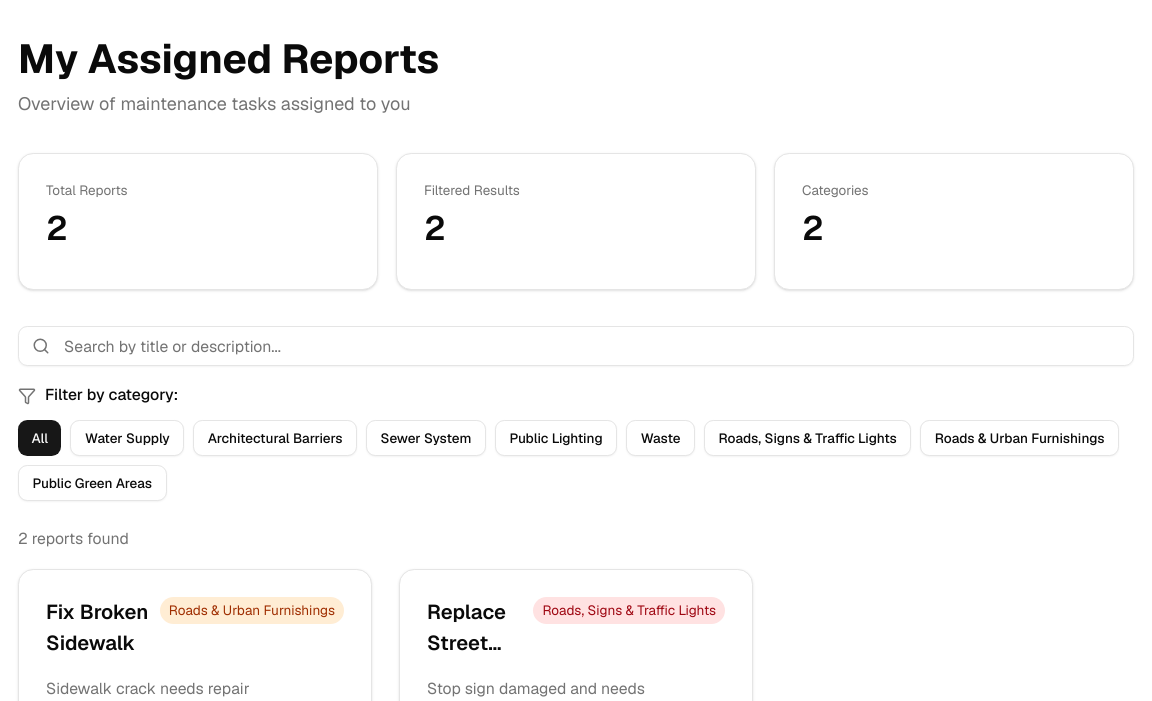
Scenario: ReportsList (Officer My Reports) › should filter reports by search query on title
This screenshot has width=1152, height=701.
Expected: the text "Fix Broken Sidewalk" is shown, [46,597,151,660]
Type "sidewalk" into the field with placeholder "Search by title or description..." at (576,346), box [18,326,1134,366]
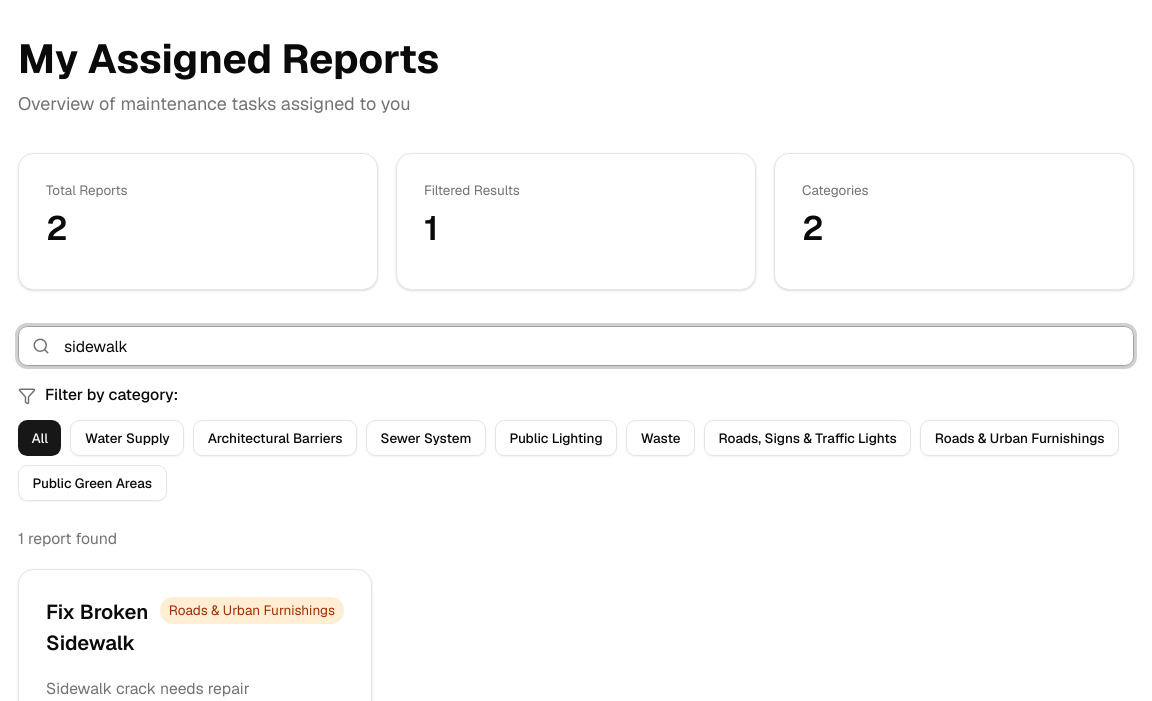
Expected: the text "Fix Broken Sidewalk" is shown, [46,597,151,660]
Expected: the text "Replace Street Sign" is gone
